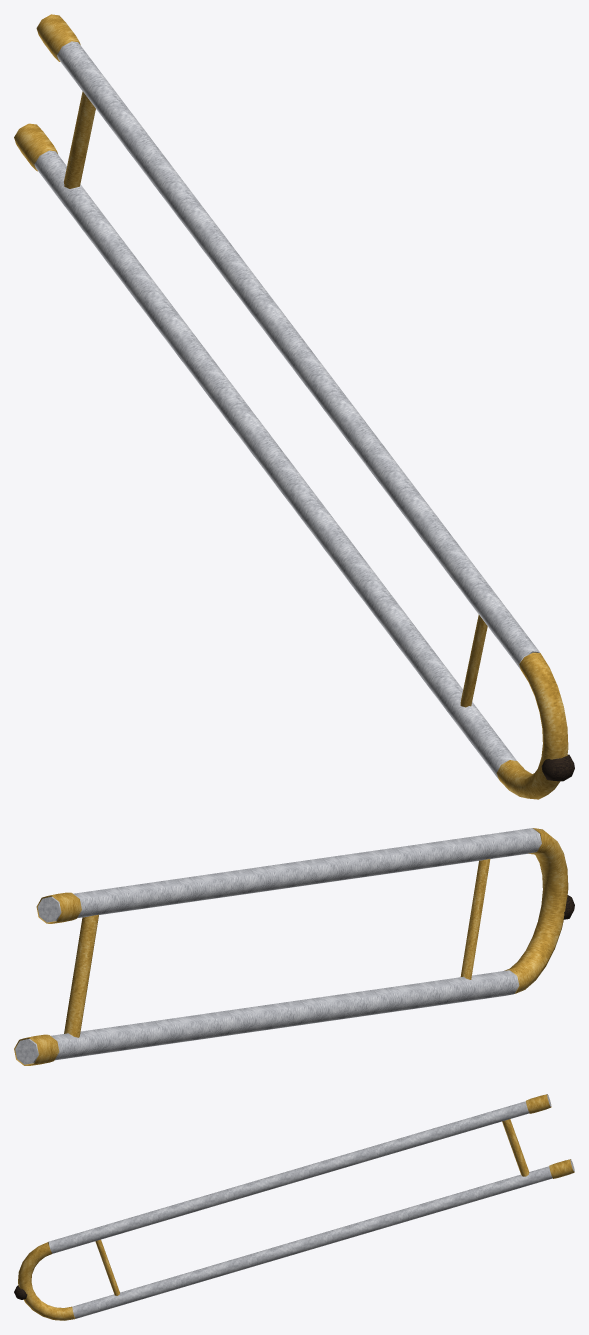
File: vara.obj
3 views of the same model, one above another, from view 1: azimuth 30°, elevation 25°; view 2: azimuth 150°, elevation 25°; view 3: azimuth 270°, elevation 25° (orthographic). The views are drawn at different scales.
Parts seen in each view (by area): view 1: trombon_Vara; view 2: trombon_Vara; view 3: trombon_Vara.
Part boxes in pixels (box(x1,y1,x2,y2)): trombon_Vara: box(14, 14, 574, 799); trombon_Vara: box(14, 828, 574, 1065); trombon_Vara: box(14, 1094, 574, 1320).
Size of the model in its own units: 0.024 by 0.3141 by 0.7062.
3 materials, 3 textured.
